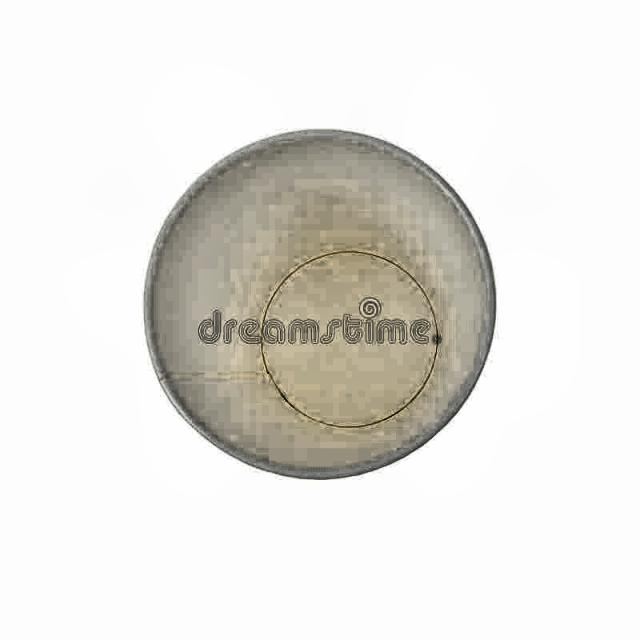Cup: (118, 119, 511, 509)
